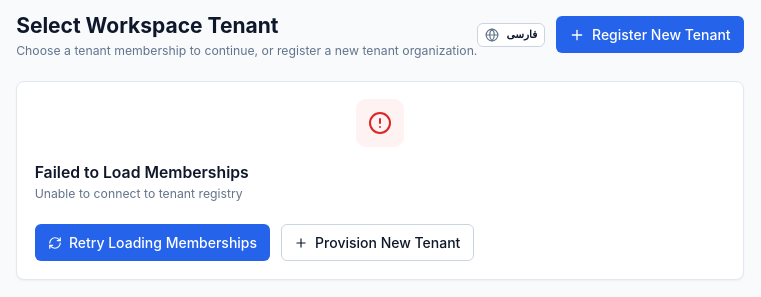
SelectTenantPage Recovery & Workflows › handles membership request failure and restores memberships upon successful retry
Expected: the heading "Failed to Load Memberships" is shown, [35,163,249,182]
Expected: the text "Unable to connect to tenant registry" is shown, [35,186,243,201]
Click the button "Retry Loading Memberships": (152, 243) [35,224,270,261]
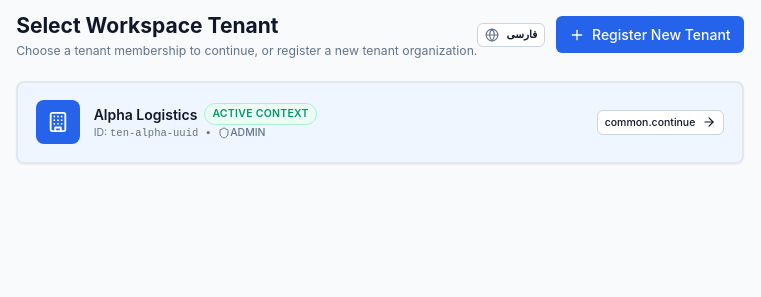
Expected: the text "Alpha Logistics" is shown, [94,104,197,124]
Expected: the heading "Failed to Load Memberships" is gone
Expected: the button "Retry Loading Memberships" is gone
